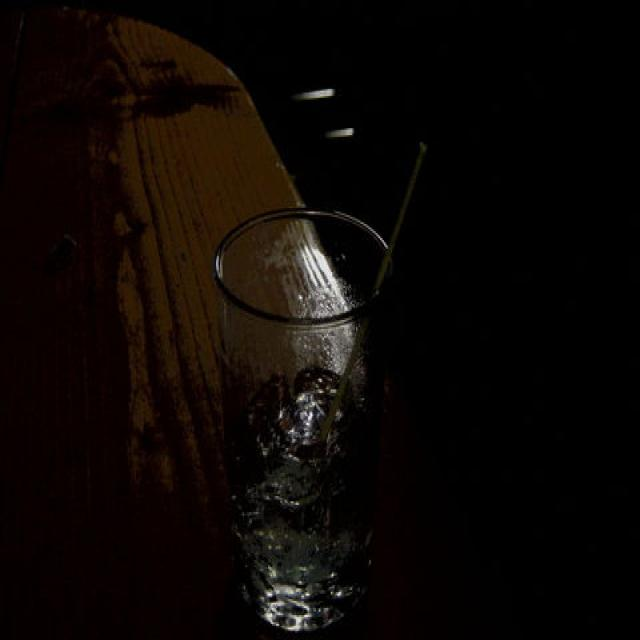Cup: (195, 181, 417, 634)
Table: (1, 1, 463, 640)
